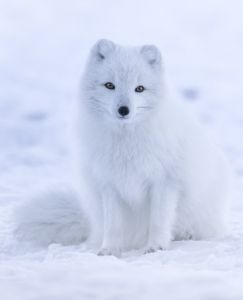fox: (74, 35, 233, 258)
